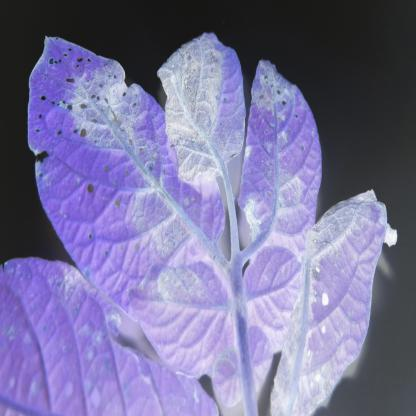potato leaf early blight: (25, 30, 245, 388), (1, 250, 233, 416), (275, 189, 401, 416), (236, 54, 322, 261), (159, 29, 248, 189)
